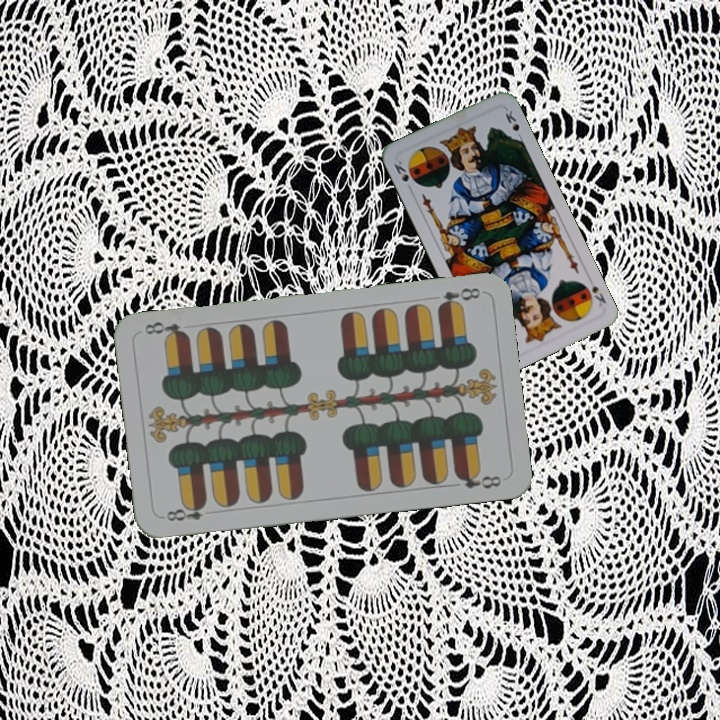E8: (433, 283, 483, 312), (159, 498, 209, 524)
SK: (578, 273, 609, 309), (390, 157, 411, 185)
